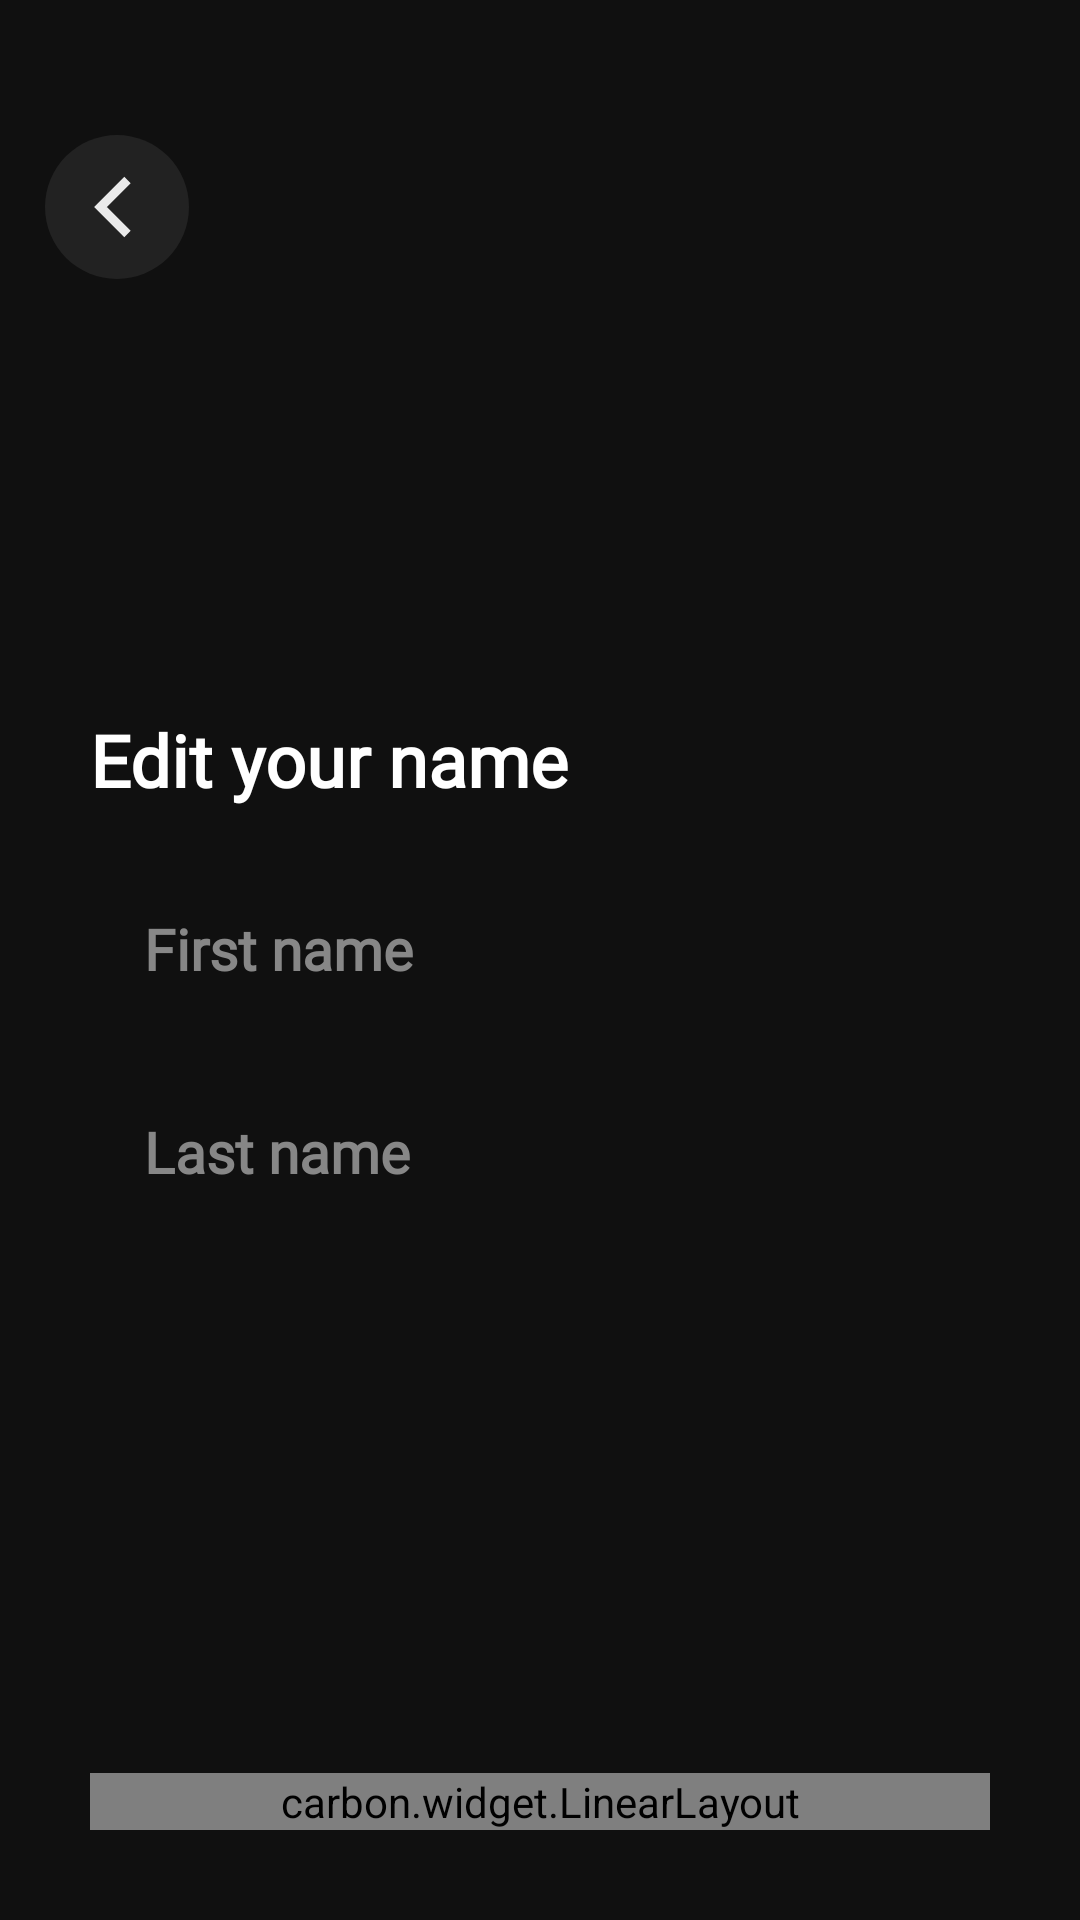

Icon bounding boxes for this 1080×1920 phone screenshot, format (x1, y1, x2, y2):
back left: (45, 135, 189, 279)
